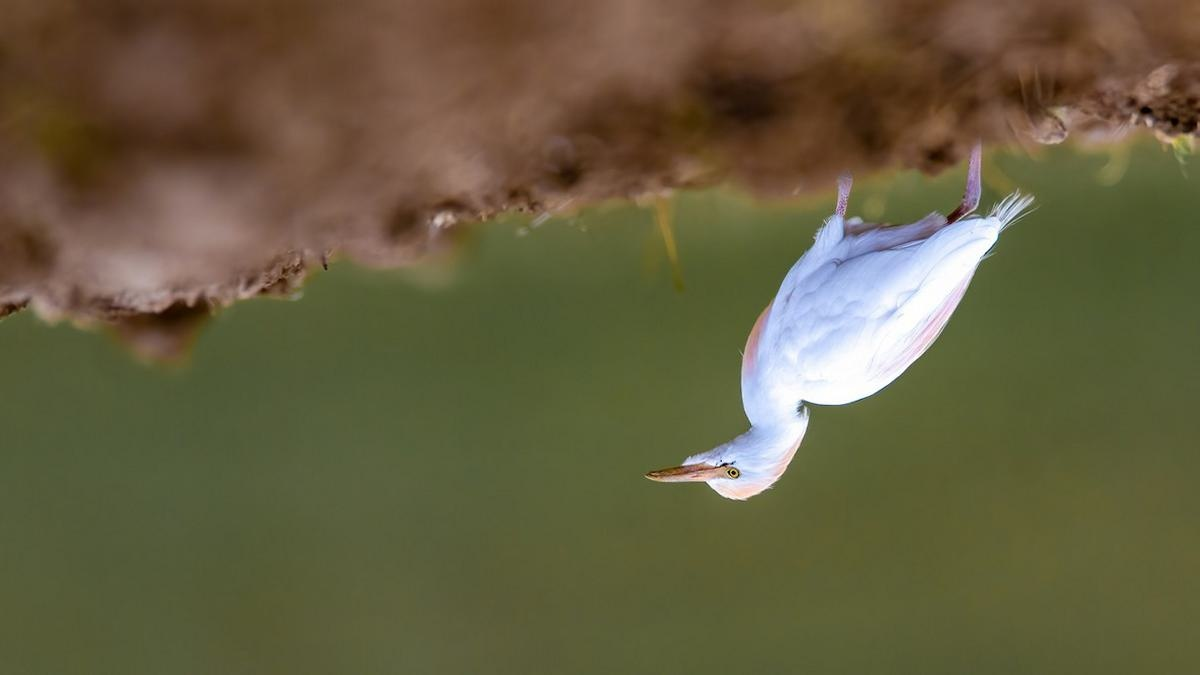egret: (639, 92, 1041, 523)
